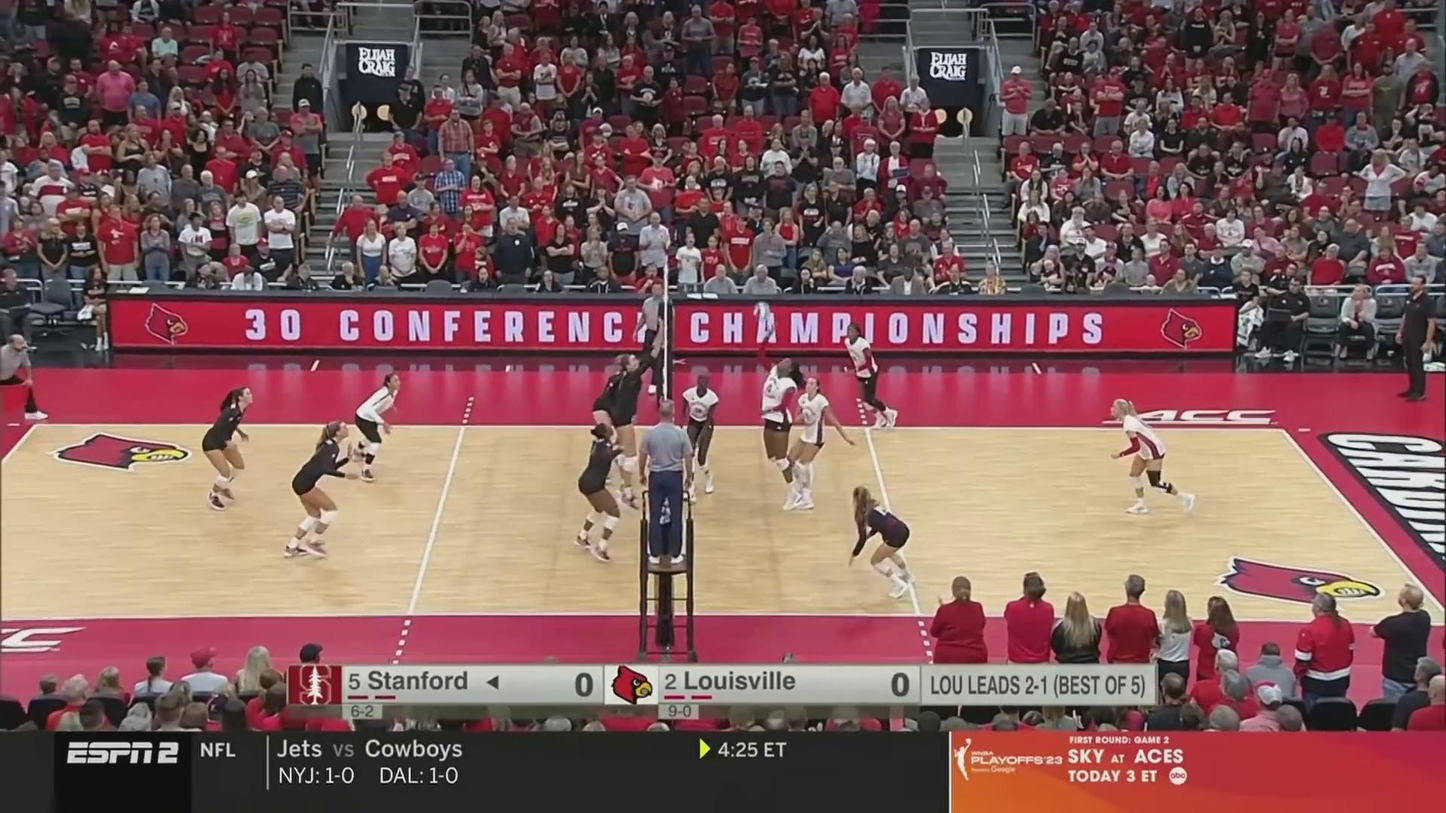player: (747, 342, 815, 507), (580, 402, 643, 560), (290, 416, 359, 558), (1109, 405, 1196, 515), (787, 381, 843, 516), (344, 369, 408, 484), (201, 383, 257, 514), (853, 489, 916, 600), (586, 360, 639, 491), (839, 321, 901, 431), (616, 345, 656, 506), (679, 375, 721, 501)
refree: (638, 403, 693, 565), (0, 329, 51, 426), (634, 280, 672, 394)
